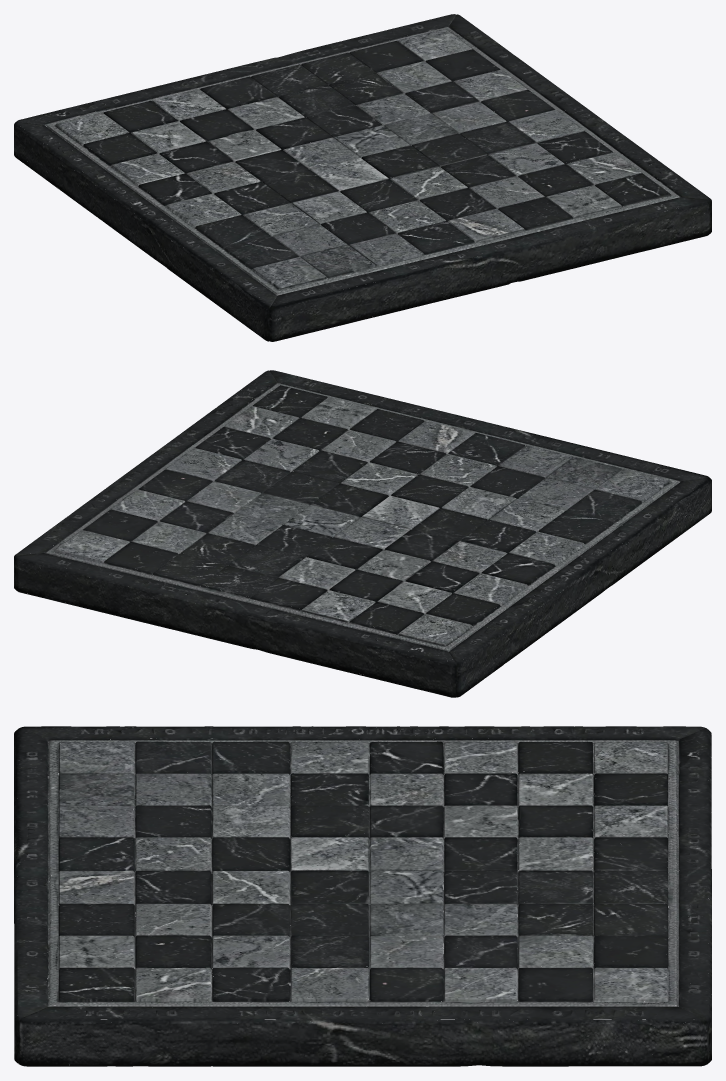
Rendered from board.glb.
The picture shows the model from 3 angles, top to bottom: view 1: azimuth 30°, elevation 25°; view 2: azimuth 150°, elevation 25°; view 3: azimuth 270°, elevation 25°; orthographic projection. The views are drawn at different scales.
Parts seen in each view (by area): view 1: board; view 2: board; view 3: board.
Boxes of the visible parts, bbox=[...] form: board: bbox=[14, 14, 711, 341]; board: bbox=[14, 370, 711, 697]; board: bbox=[14, 726, 711, 1066].
Size of the model in its own units: 0.9786 by 0.0822 by 0.9763.
Materials: 1 (1 with a texture image).
